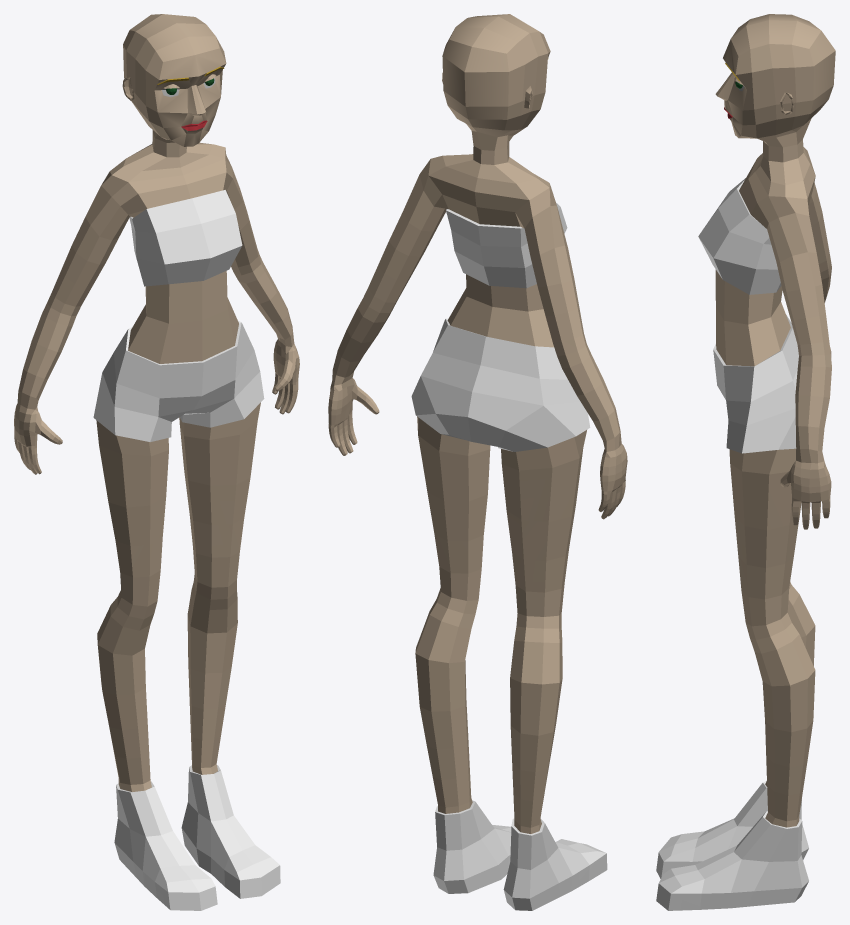
File: Char-model_Female-BASE.fbx
3 renders of one model, left to right at view 1: azimuth 30°, elevation 25°; view 2: azimuth 150°, elevation 25°; view 3: azimuth 270°, elevation 25°, orthographic. The views are drawn at different scales.
Visible parts, largest first — view 1: Character, Character.Base-Clothes, Char_Shoes; view 2: Character, Character.Base-Clothes, Char_Shoes; view 3: Character, Char_Shoes, Character.Base-Clothes.
Boxes of the visible parts, x1=… form: Character: x1=14, y1=14, x2=299, y2=791; Character.Base-Clothes: x1=93, y1=190, x2=264, y2=441; Char_Shoes: x1=114, y1=765, x2=280, y2=910; Character: x1=328, y1=14, x2=627, y2=833; Character.Base-Clothes: x1=411, y1=203, x2=590, y2=451; Char_Shoes: x1=433, y1=800, x2=607, y2=910; Character: x1=715, y1=14, x2=835, y2=827; Char_Shoes: x1=656, y1=781, x2=808, y2=910; Character.Base-Clothes: x1=698, y1=178, x2=798, y2=453.
Bounding box in the file's own units: 550 × 1604 × 301.
